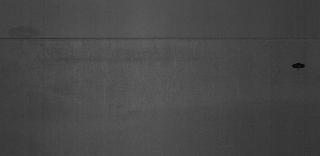punching hole: (292, 62, 306, 70)
welding line: (1, 34, 318, 46)
